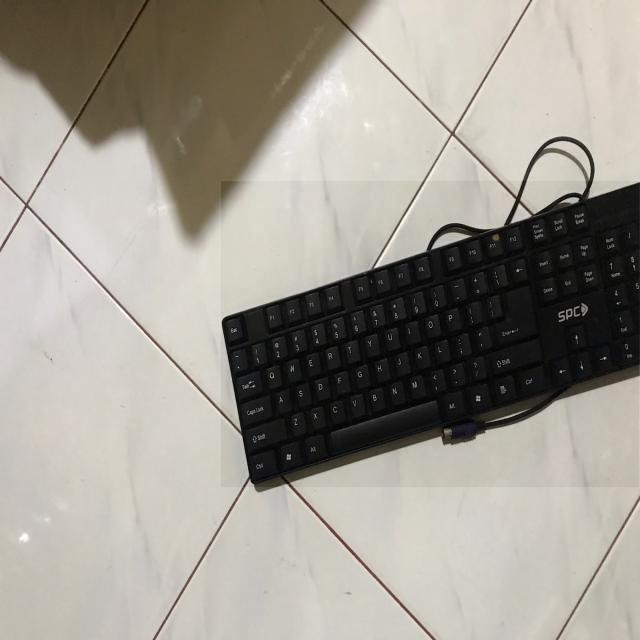-mouse-: (221, 181, 640, 487)
